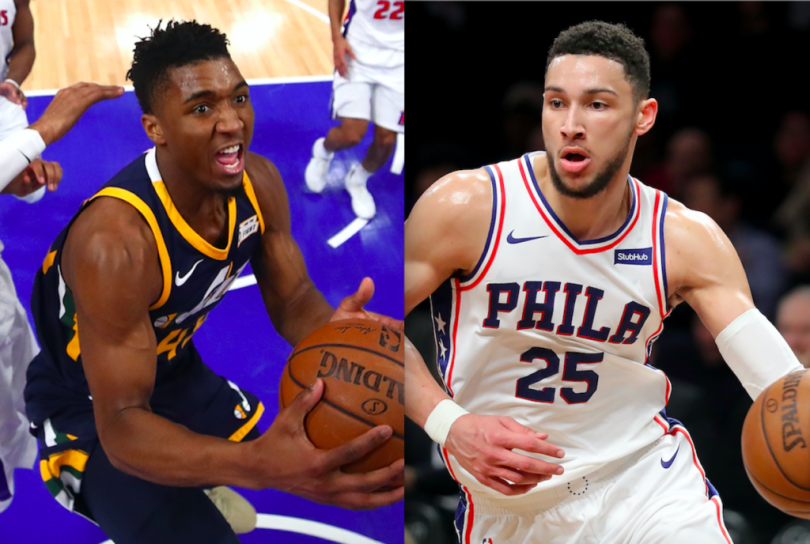ball: (279, 314, 404, 487), (741, 366, 810, 521)
player: (407, 21, 776, 543), (21, 23, 354, 544)
